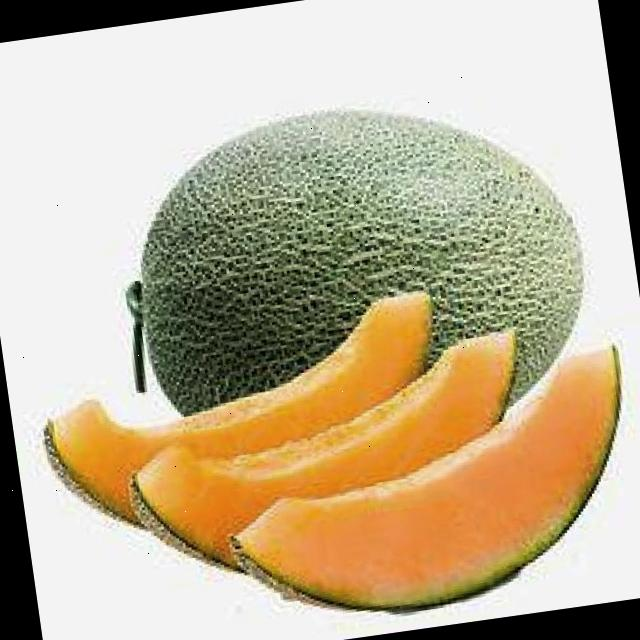Hami Melon: (114, 76, 604, 462)
